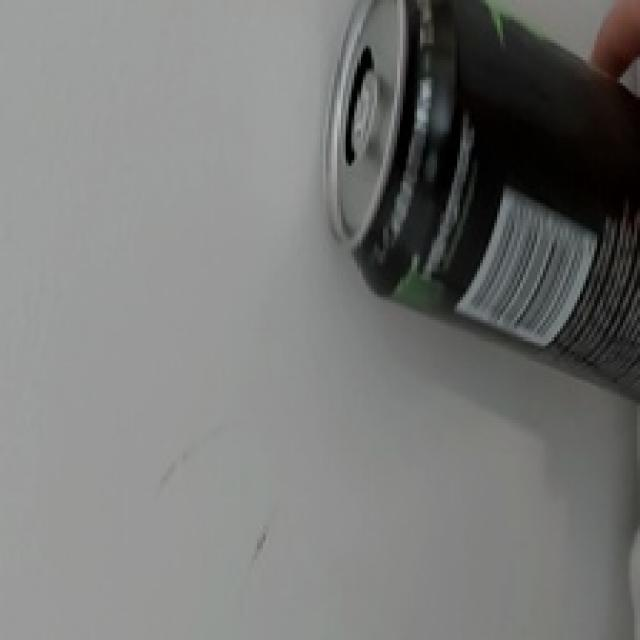recyclable: (323, 0, 640, 406)
